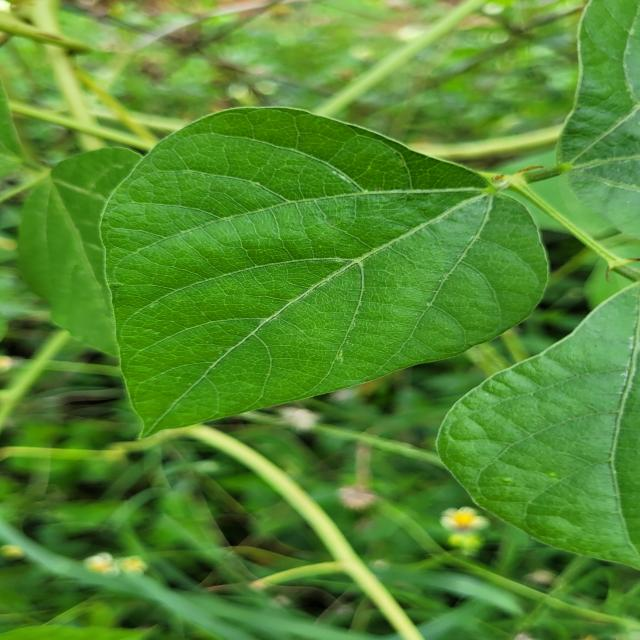Dolicos bean_healthy: (96, 108, 564, 442)
